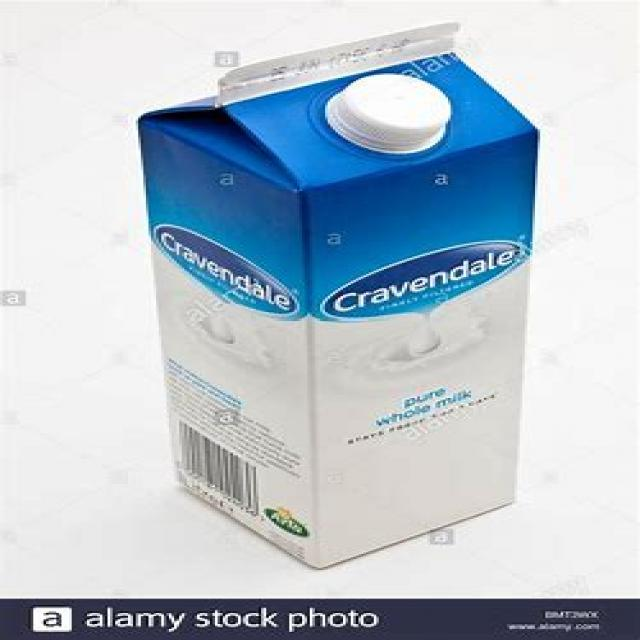non_white_jug: (135, 18, 520, 572)
